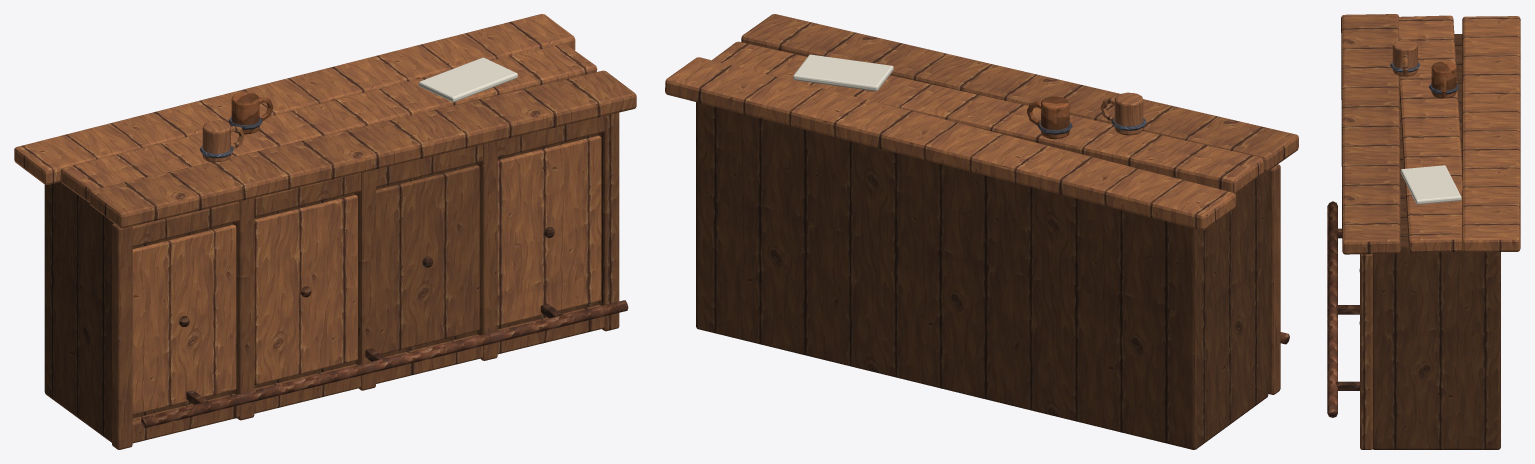
The model's file is bar_counter.glb.
3 views of the same model, side by side, from view 1: azimuth 30°, elevation 25°; view 2: azimuth 150°, elevation 25°; view 3: azimuth 270°, elevation 25° (orthographic). The views are drawn at different scales.
Parts seen in each view (by area): view 1: model; view 2: model; view 3: model.
Boxes of the visible parts, x1,y1,x2,y2 form: model: (14,14,636,449); model: (665,14,1298,449); model: (1327,14,1520,449).
Bounding box in the file's own units: 2.09 × 1.05 × 0.7481.
9 materials, 8 textured.
